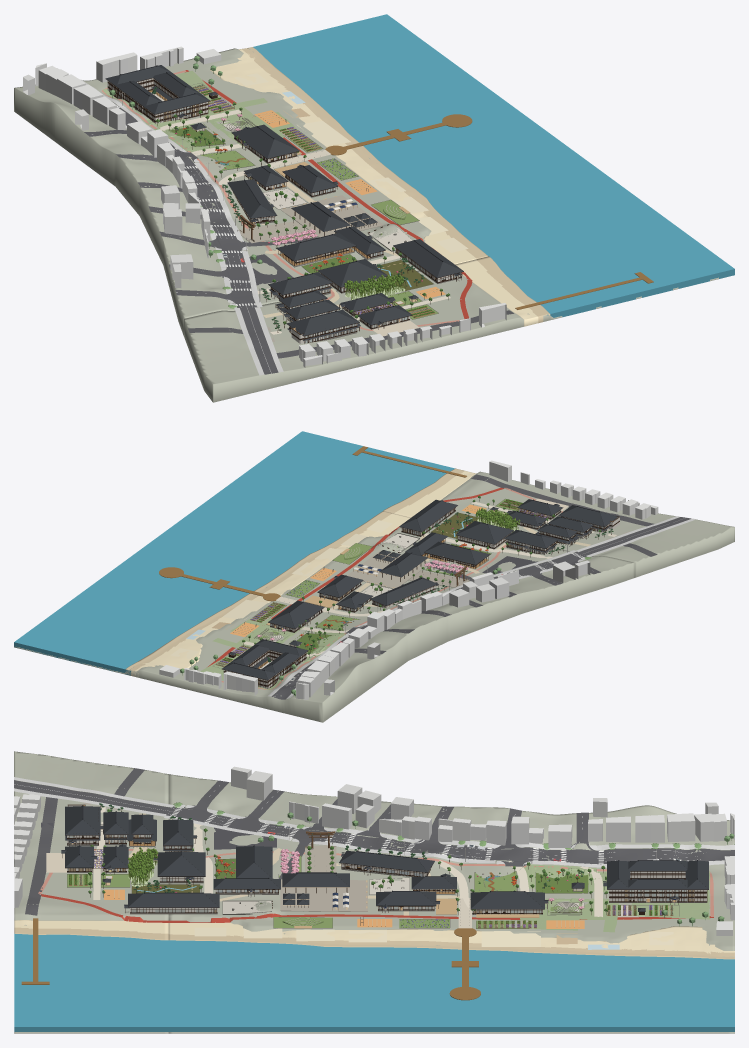
The model's file is longevity.glb.
3 renders of one model, top to bottom at view 1: azimuth 30°, elevation 25°; view 2: azimuth 150°, elevation 25°; view 3: azimuth 270°, elevation 25°, orthographic. The views are drawn at different scales.
Visible parts, largest first — view 1: Deniz_Yuzeyi, Arazi_Zemin, Arazi_Zemin_Guney, Kumsal, AnaCadde_Asfalt_0, J_8_Konaklama_roof_cati, Kumsal_Guney, V10_zf9efd2, B_Zeminler_cim, V10_deck, J_4a_Fitness_1_roof_cati, J_6_Beslenme_roof_cati (+22 smaller); view 2: Deniz_Yuzeyi, Arazi_Zemin, Arazi_Zemin_Guney, Kumsal, J_8_Konaklama_roof_cati, Kumsal_Guney, V10_zf9efd2, B_Zeminler_cim, V10_deck, B_Meydan_zemin_tas, V10_zefe7d6, AnaCadde_Asfalt_0 (+16 smaller); view 3: Deniz_Yuzeyi, Arazi_Zemin, Arazi_Zemin_Guney, Kumsal, AnaCadde_Asfalt_0, V10_zf9efd2, J_8_Konaklama_roof_cati, Kumsal_Guney, B_Zeminler_cim, V10_zefe7d6, B_Meydan_zemin_tas, V10_lnd0463b3.0 (+47 smaller).
Part boxes in pixels (x1=…): Deniz_Yuzeyi: x1=253, y1=14, x2=734, y2=317; Arazi_Zemin: x1=14, y1=48, x2=431, y2=335; Arazi_Zemin_Guney: x1=184, y1=270, x2=718, y2=402; Kumsal: x1=210, y1=47, x2=487, y2=264; AnaCadde_Asfalt_0: x1=113, y1=102, x2=256, y2=307; J_8_Konaklama_roof_cati: x1=105, y1=65, x2=210, y2=114; Kumsal_Guney: x1=455, y1=256, x2=550, y2=326; V10_zf9efd2: x1=234, y1=73, x2=468, y2=252; B_Zeminler_cim: x1=201, y1=120, x2=438, y2=319; V10_deck: x1=325, y1=114, x2=653, y2=309; J_4a_Fitness_1_roof_cati: x1=393, y1=239, x2=463, y2=277; J_6_Beslenme_roof_cati: x1=231, y1=124, x2=299, y2=158; Deniz_Yuzeyi: x1=14, y1=431, x2=454, y2=675; Arazi_Zemin: x1=14, y1=523, x2=635, y2=722; Arazi_Zemin_Guney: x1=440, y1=471, x2=734, y2=577; Kumsal: x1=125, y1=511, x2=410, y2=677; J_8_Konaklama_roof_cati: x1=222, y1=639, x2=308, y2=680; Kumsal_Guney: x1=383, y1=468, x2=476, y2=517; V10_zf9efd2: x1=171, y1=520, x2=392, y2=658; B_Zeminler_cim: x1=253, y1=499, x2=519, y2=638; V10_deck: x1=159, y1=446, x2=466, y2=601; B_Meydan_zemin_tas: x1=347, y1=550, x2=430, y2=588; V10_zefe7d6: x1=242, y1=502, x2=616, y2=656; AnaCadde_Asfalt_0: x1=271, y1=551, x2=586, y2=699; Deniz_Yuzeyi: x1=14, y1=933, x2=734, y2=1031; Arazi_Zemin: x1=168, y1=774, x2=734, y2=1033; Arazi_Zemin_Guney: x1=14, y1=751, x2=168, y2=1033; Kumsal: x1=168, y1=922, x2=734, y2=959; AnaCadde_Asfalt_0: x1=166, y1=806, x2=734, y2=864; V10_zf9efd2: x1=194, y1=927, x2=673, y2=946; J_8_Konaklama_roof_cati: x1=607, y1=861, x2=708, y2=889; Kumsal_Guney: x1=14, y1=920, x2=168, y2=940; B_Zeminler_cim: x1=67, y1=856, x2=577, y2=928; V10_zefe7d6: x1=93, y1=807, x2=602, y2=916; B_Meydan_zemin_tas: x1=280, y1=879, x2=367, y2=911; V10_lnd0463b3.0: x1=41, y1=894, x2=713, y2=922.
Bounding box in the file's own units: 357 × 29.64 × 412.
